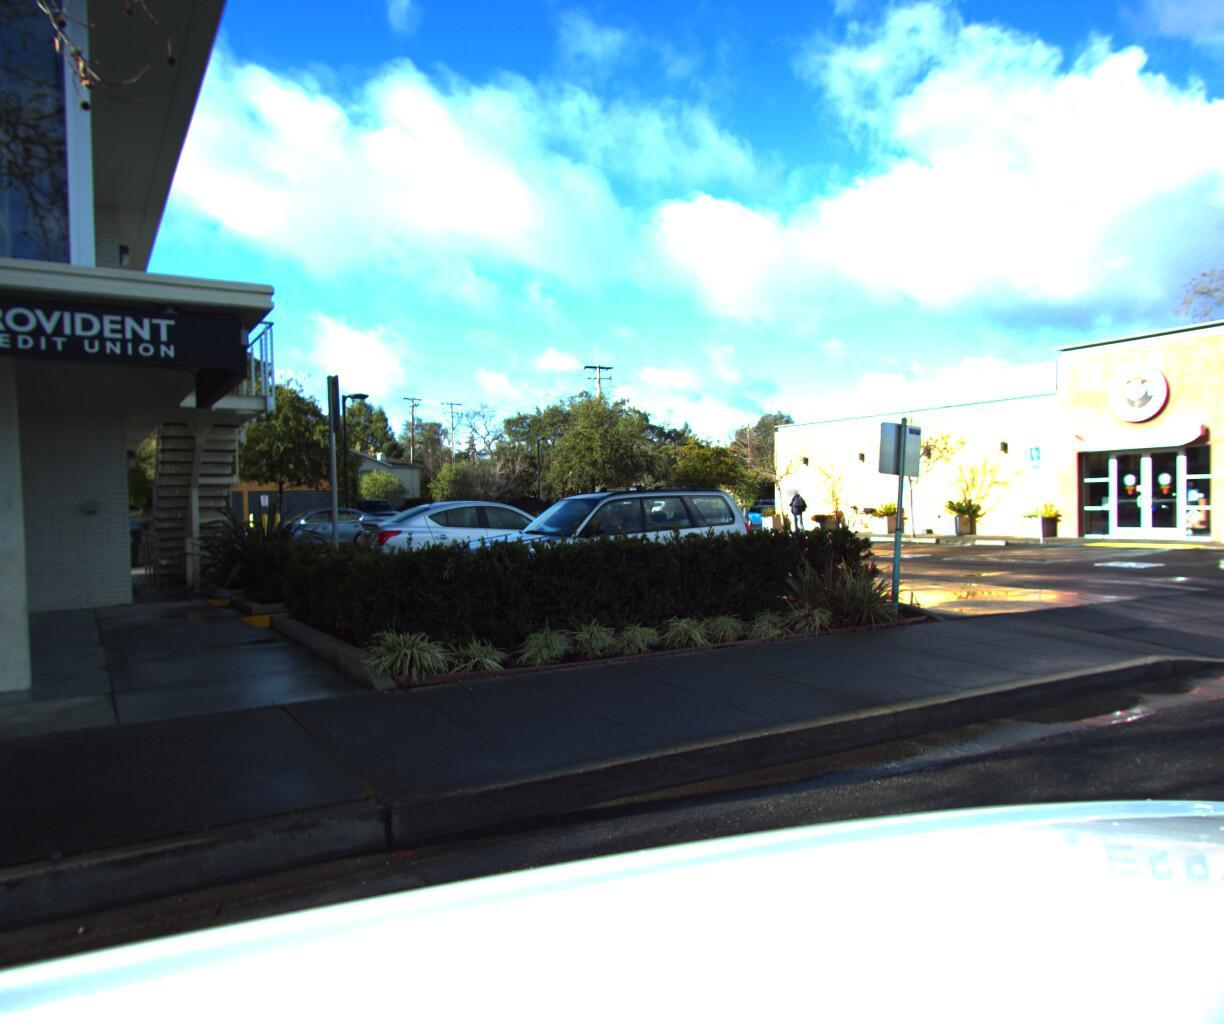car: (416, 477, 782, 643), (741, 499, 805, 523)
